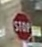stop: (11, 9, 33, 43)
